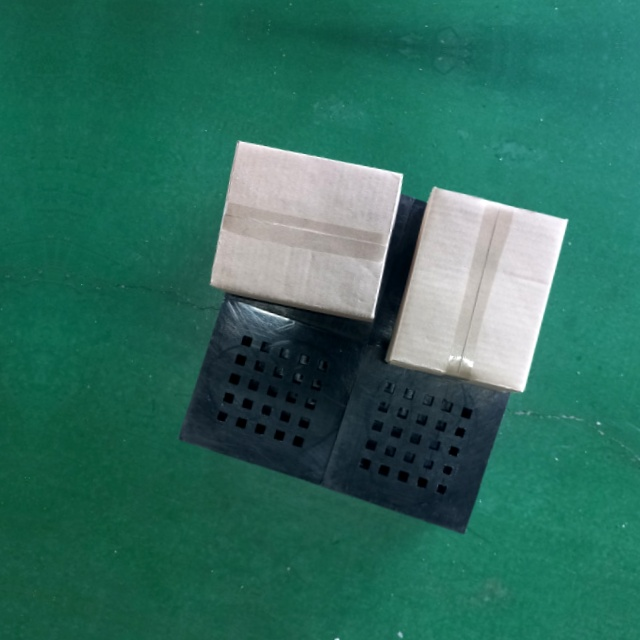box: (383, 183, 567, 397), (205, 137, 408, 325)
